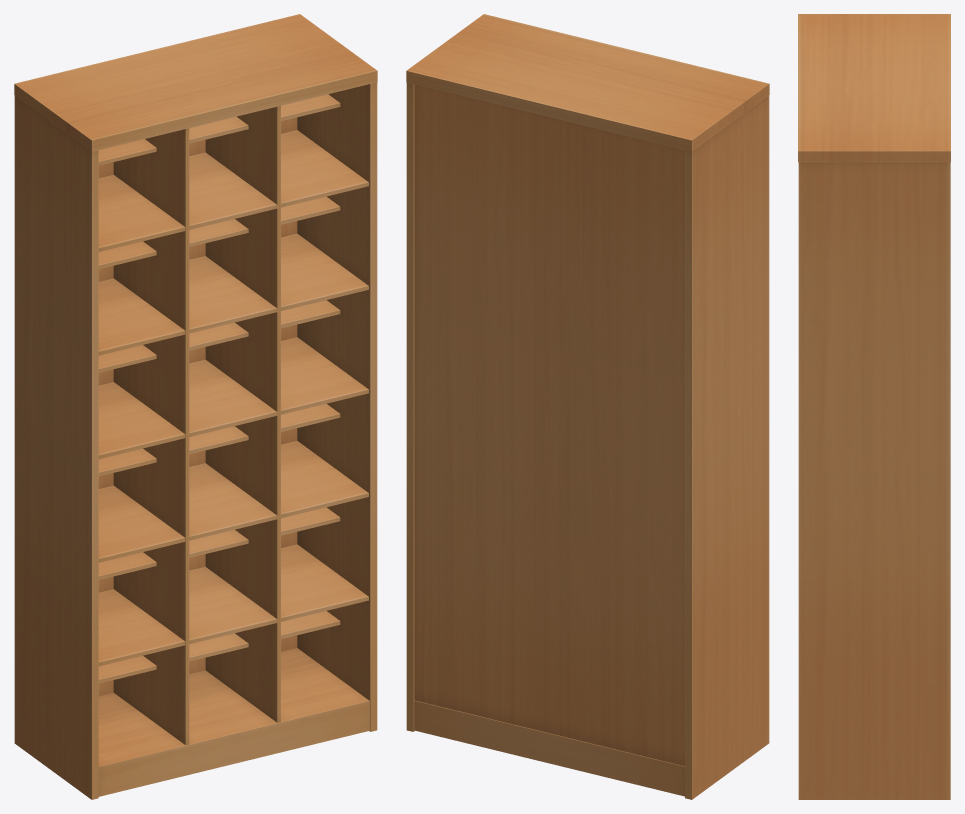
The model's file is set_shoecupboard_b_10.fbx.
3 views of the same model, side by side, from view 1: azimuth 30°, elevation 25°; view 2: azimuth 150°, elevation 25°; view 3: azimuth 270°, elevation 25° (orthographic).
Parts seen in each view (by area): view 1: set_shoecupboard_b_10; view 2: set_shoecupboard_b_10; view 3: set_shoecupboard_b_10.
Boxes of the visible parts, x1=… form: set_shoecupboard_b_10: x1=14, y1=14, x2=377, y2=799; set_shoecupboard_b_10: x1=406, y1=14, x2=769, y2=799; set_shoecupboard_b_10: x1=798, y1=14, x2=950, y2=799.
Size of the model in its own units: 79.39 by 175 by 37.38.
